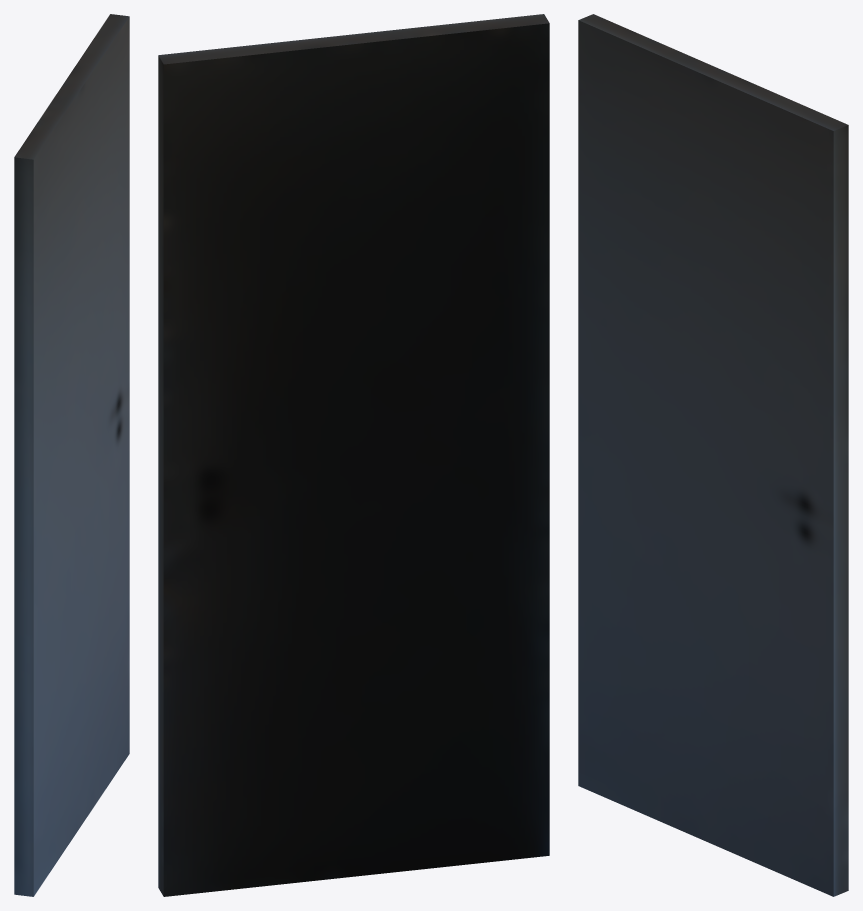
The model's file is DoorA.002.gltf.
The picture shows the model from 3 angles, left to right: view 1: azimuth 30°, elevation 25°; view 2: azimuth 150°, elevation 25°; view 3: azimuth 270°, elevation 25°; orthographic projection. The views are drawn at different scales.
Visible parts, largest first — view 1: DoorA.002; view 2: DoorA.002; view 3: DoorA.002.
Part boxes in pixels (bbox=[...]): DoorA.002: bbox=[14, 14, 129, 896]; DoorA.002: bbox=[158, 14, 549, 896]; DoorA.002: bbox=[578, 14, 848, 896].
Bounding box in the file's own units: 0.6889 × 2.1 × 0.6715.
Materials: 1 (1 with a texture image).
